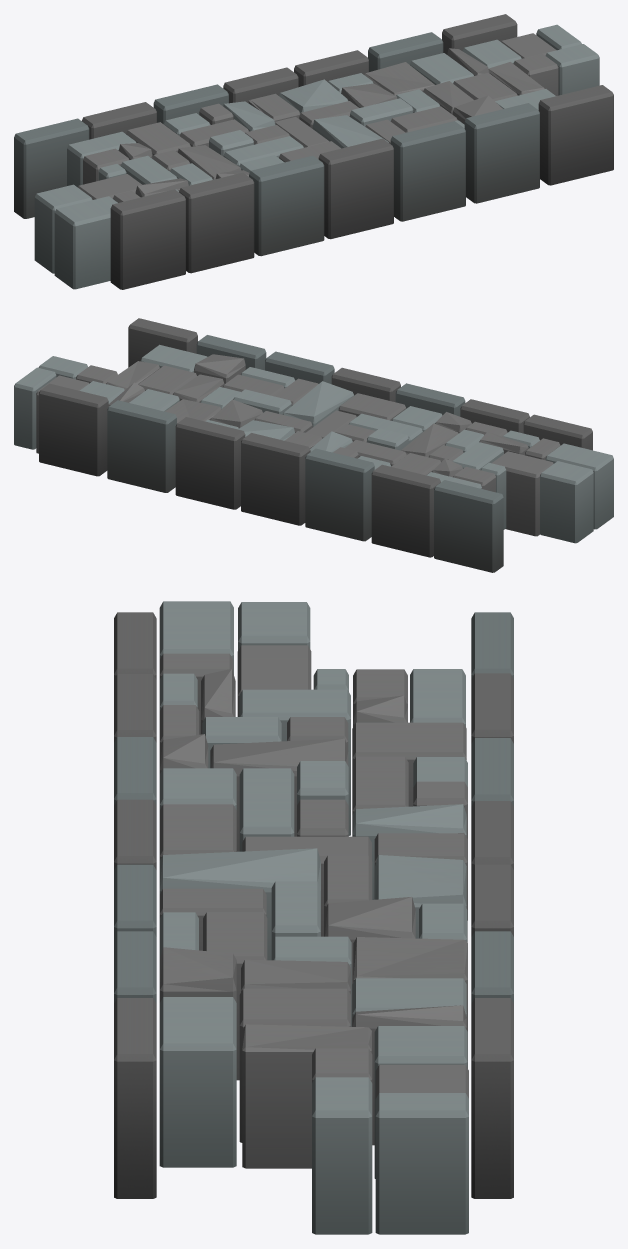
Rendered from ZLP_Road_C_3.FBX.
3 views of the same model, one above another, from view 1: azimuth 30°, elevation 25°; view 2: azimuth 150°, elevation 25°; view 3: azimuth 270°, elevation 25° (orthographic). The views are drawn at different scales.
Parts seen in each view (by area): view 1: ZLP_Road_C_3; view 2: ZLP_Road_C_3; view 3: ZLP_Road_C_3.
Boxes of the visible parts, bbox=[...] form: ZLP_Road_C_3: bbox=[14, 14, 613, 289]; ZLP_Road_C_3: bbox=[14, 318, 613, 572]; ZLP_Road_C_3: bbox=[114, 601, 513, 1234].
Size of the model in its own units: 662 by 89.52 by 219.
